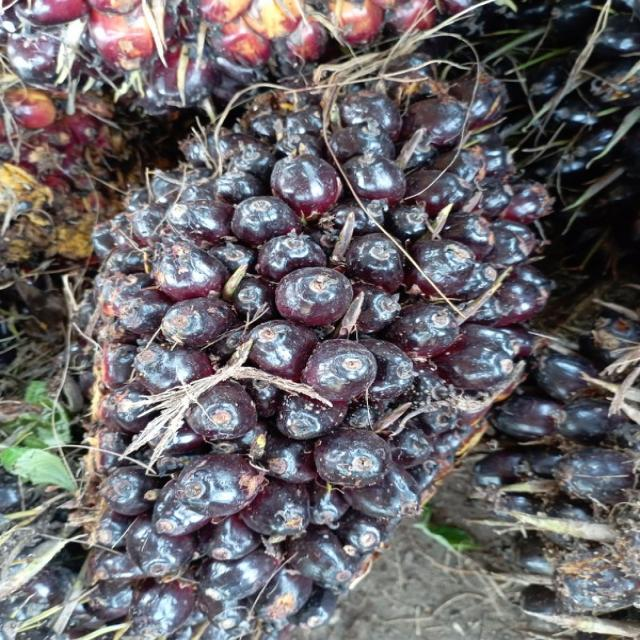fraksi 00: (82, 72, 542, 640)
